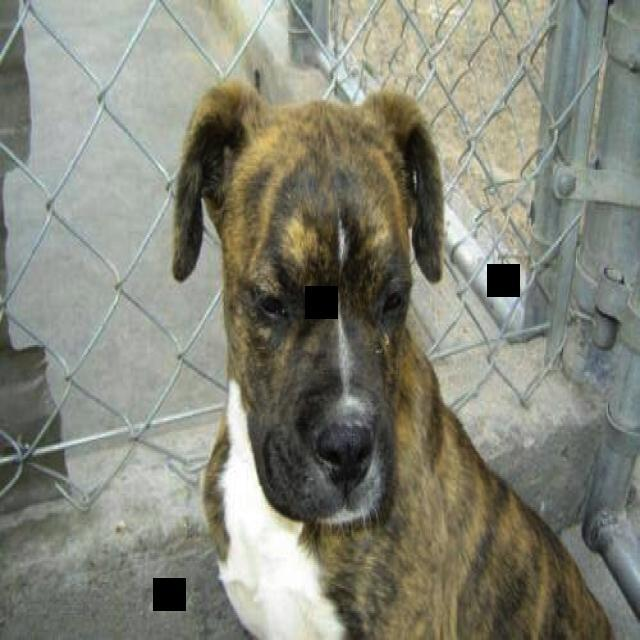adult_dog: (168, 69, 615, 640)
